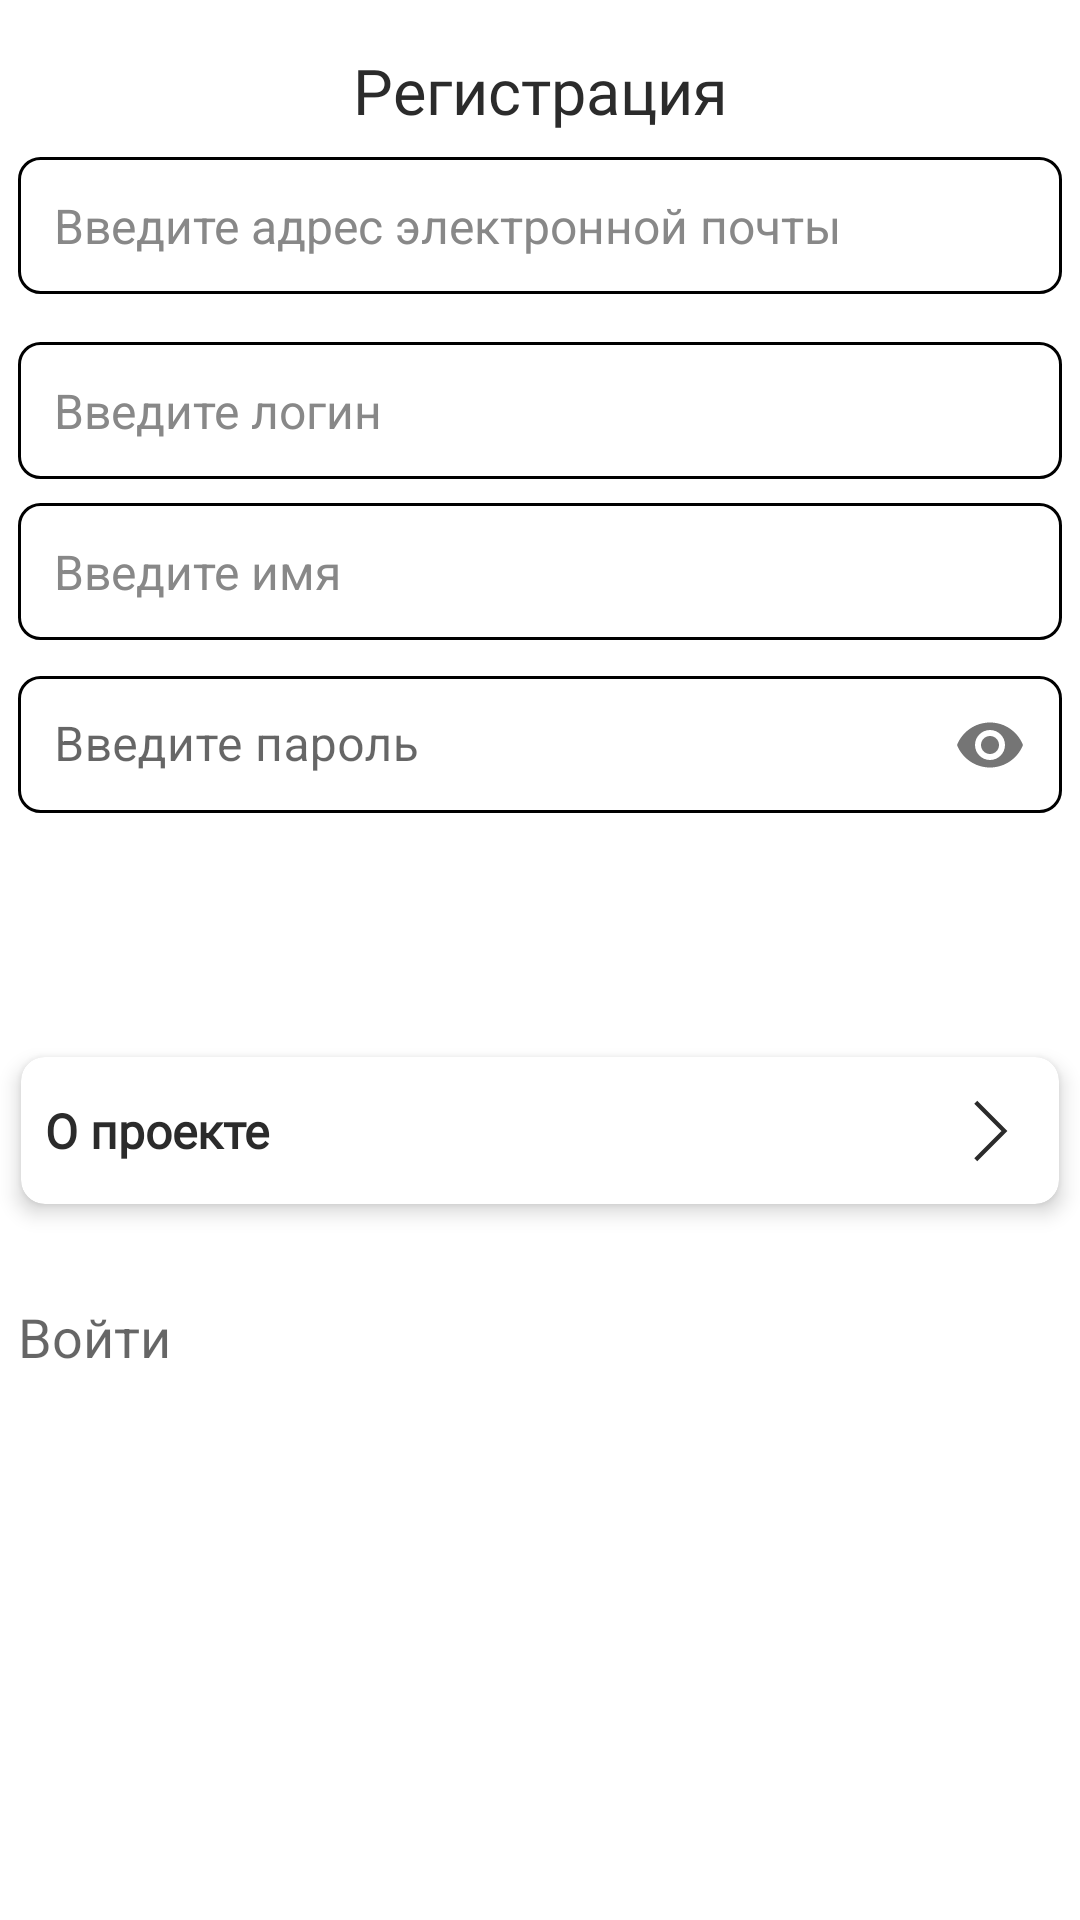

Where icons sit on this 1080×1920 app screen, as (x1, y1, x2, y2):
arrow: (974, 1101, 1007, 1161)
